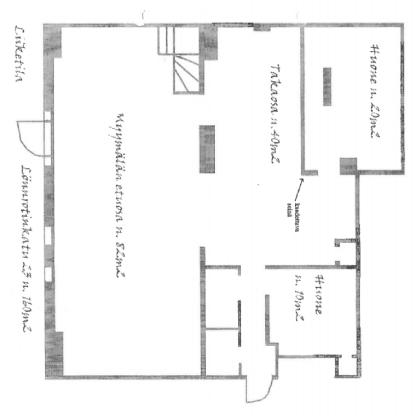door: (56, 27, 358, 375), (304, 26, 396, 169)
window: (16, 119, 52, 160), (241, 376, 275, 404)
zone: (43, 226, 53, 246), (44, 265, 52, 282)
